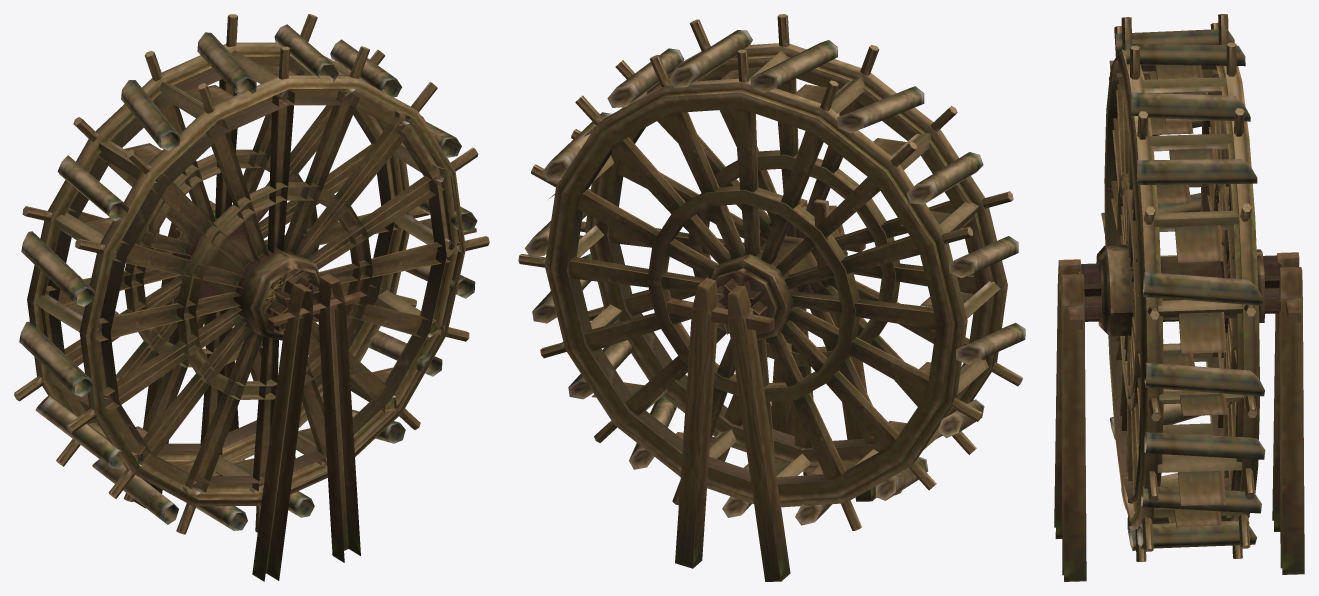
Rendered from jd_shuiche_1.FBX.
3 renders of one model, left to right at view 1: azimuth 30°, elevation 25°; view 2: azimuth 150°, elevation 25°; view 3: azimuth 270°, elevation 25°, orthographic. The views are drawn at different scales.
Visible parts, largest first — view 1: jd_shuiche_1; view 2: jd_shuiche_1; view 3: jd_shuiche_1.
Boxes of the visible parts, bbox=[...] form: jd_shuiche_1: bbox=[14, 14, 489, 581]; jd_shuiche_1: bbox=[518, 14, 1025, 581]; jd_shuiche_1: bbox=[1054, 14, 1304, 581].
Size of the model in its own units: 567 by 264 by 598.
